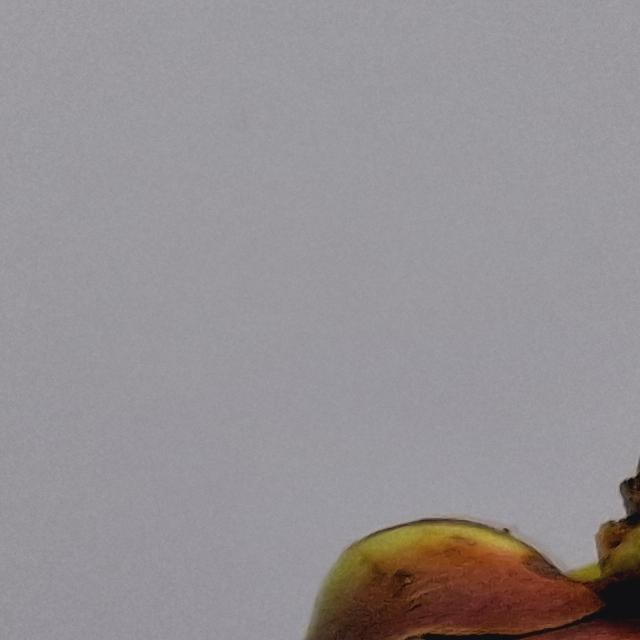mangosteen: (30, 340, 640, 640)
